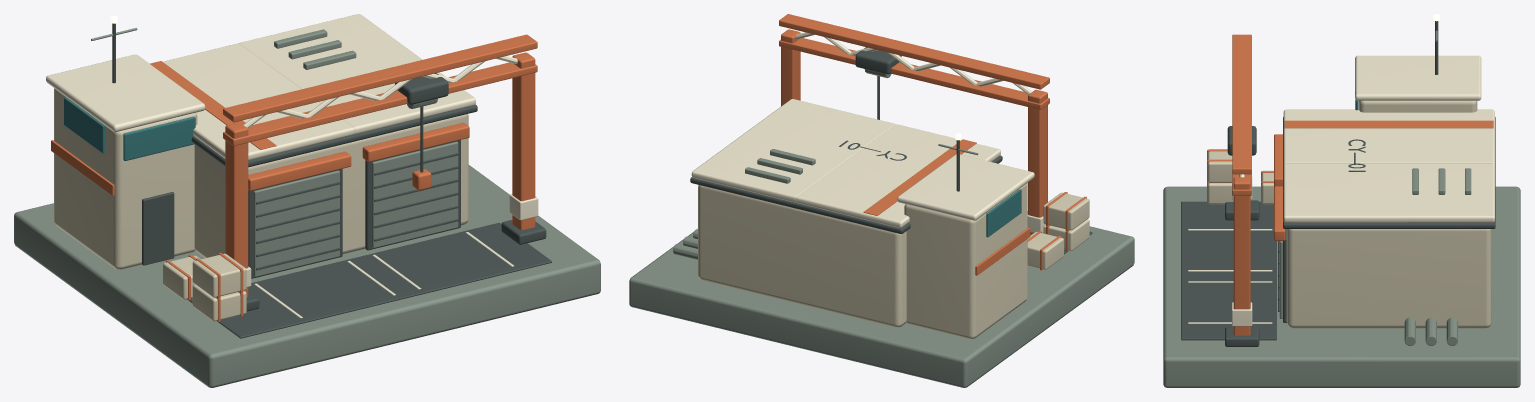
File: courtyard.glb
3 views of the same model, side by side, from view 1: azimuth 30°, elevation 25°; view 2: azimuth 150°, elevation 25°; view 3: azimuth 270°, elevation 25° (orthographic). The views are drawn at different scales.
Parts seen in each view (by area): view 1: CourtyardStructure, GantryCrane, SupplyStacks; view 2: CourtyardStructure, GantryCrane, SupplyStacks; view 3: CourtyardStructure, GantryCrane, SupplyStacks.
Boxes of the visible parts, box(x1,y1,x2,y2) form: CourtyardStructure: box(14, 14, 600, 387); GantryCrane: box(223, 34, 546, 311); SupplyStacks: box(163, 252, 246, 322); CourtyardStructure: box(629, 99, 1134, 387); GantryCrane: box(779, 14, 1049, 235); SupplyStacks: box(673, 192, 1089, 270); CourtyardStructure: box(1163, 55, 1520, 387); GantryCrane: box(1225, 34, 1259, 346); SupplyStacks: box(1207, 149, 1457, 345).
Size of the model in its own units: 15.6 by 9.46 by 13.6.
